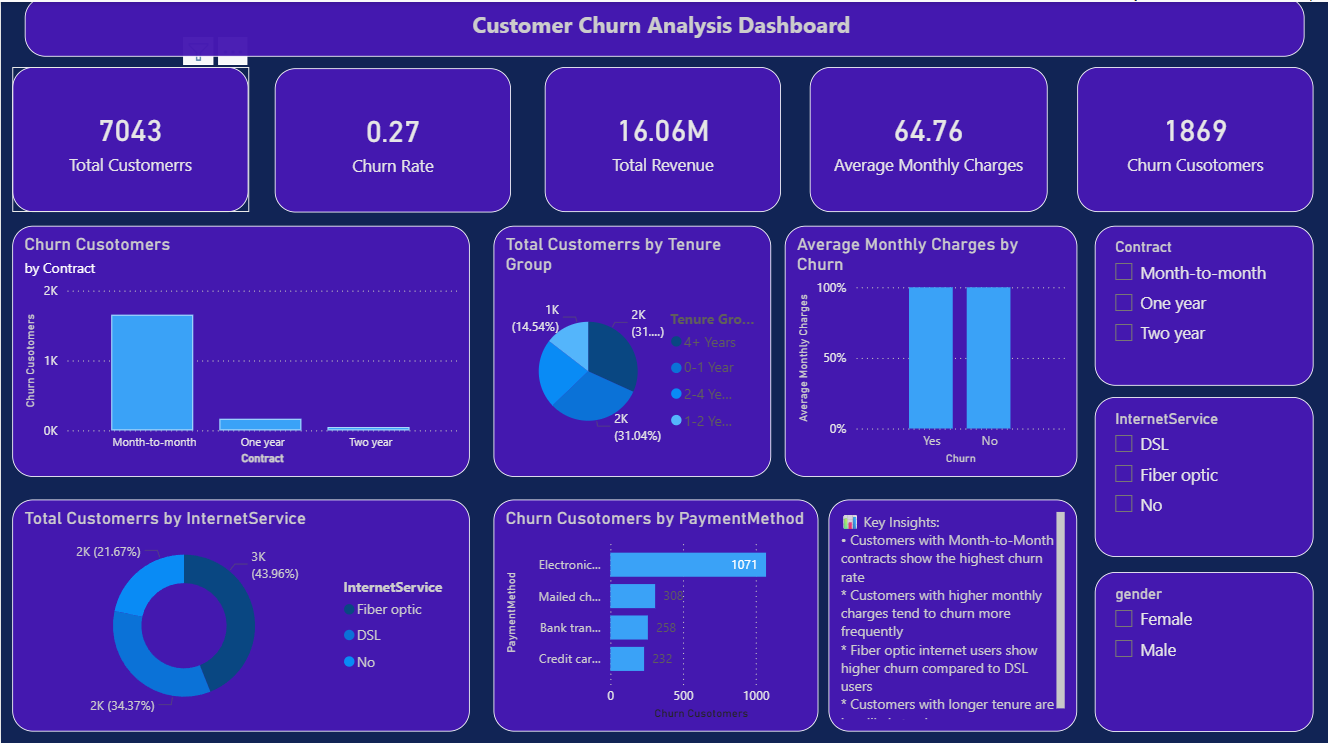

Layout of this report page (visuals, bound fields, positions):
{"tool":"powerbi","page":{"name":"Page 1","canvas":[1280,720],"ordinal":0},"visuals":[{"type":"card","fields":{"Values":["Sheet1.Total Customerrs"]},"box":[10.9,67.6,228,139.9],"z":0},{"type":"card","fields":{"Values":["Sheet1.Churn Cusotomers"]},"box":[1038.7,67.6,228,139.9],"z":1000},{"type":"card","fields":{"Values":["Sheet1.Total Revenue"]},"box":[524.8,67.6,228,139.9],"z":3000},{"type":"card","fields":{"Values":["Sheet1.Average Monthly Charges"]},"box":[780.6,67.6,229.2,139.9],"z":4000},{"type":"card","fields":{"Values":["Sheet1.Churn Rate"]},"box":[264.3,68.2,228.2,139.1],"z":4500},{"type":"clusteredColumnChart","fields":{"Category":["Sheet1.Contract"],"Y":["Sheet1.Churn Cusotomers"]},"box":[10.9,220.8,441.6,242.5],"z":5000},{"type":"donutChart","fields":{"Category":["Sheet1.InternetService"],"Y":["Sheet1.Total Customerrs"]},"box":[10.9,485,441.6,224.4],"z":6000},{"type":"clusteredBarChart","fields":{"Category":["Sheet1.PaymentMethod"],"Y":["Sheet1.Churn Cusotomers"]},"box":[475.3,485,313.7,224.4],"z":7000},{"type":"hundredPercentStackedColumnChart","fields":{"Category":["Sheet1.Churn"],"Y":["Sheet1.Average Monthly Charges"]},"box":[756.4,220.8,282.3,242.5],"z":8000},{"type":"textbox","box":[22.9,0,1235.4,57.9],"z":9000},{"type":"slicer","fields":{"Values":["Sheet1.Contract"]},"box":[1055.6,220.8,211.1,154.4],"z":10000},{"type":"slicer","fields":{"Values":["Sheet1.InternetService"]},"box":[1055.6,386.1,211.1,154.4],"z":11000},{"type":"pieChart","fields":{"Category":["Sheet1.Tenure Group"],"Y":["Sheet1.Total Customerrs"]},"box":[475.3,220.8,267.8,242.5],"z":12000},{"type":"slicer","fields":{"Values":["Sheet1.gender"]},"box":[1055.6,555,211.1,154.4],"z":13000},{"type":"textbox","box":[798.7,485,240.1,224.4],"z":13001}]}

Visuals, with their boxes in screenshot pixels (x1, y1, x2, y2), scaled from the page's 1280x720 canvas onto the 1328x744 screenshot:
card - Sheet1.Total Customerrs: [11, 70, 248, 214]
card - Sheet1.Churn Cusotomers: [1078, 70, 1314, 214]
card - Sheet1.Total Revenue: [544, 70, 781, 214]
card - Sheet1.Average Monthly Charges: [810, 70, 1048, 214]
card - Sheet1.Churn Rate: [274, 70, 511, 214]
clusteredColumnChart - Sheet1.Contract x Sheet1.Churn Cusotomers: [11, 228, 469, 479]
donutChart - Sheet1.InternetService x Sheet1.Total Customerrs: [11, 501, 469, 733]
clusteredBarChart - Sheet1.PaymentMethod x Sheet1.Churn Cusotomers: [493, 501, 819, 733]
hundredPercentStackedColumnChart - Sheet1.Churn x Sheet1.Average Monthly Charges: [785, 228, 1078, 479]
textbox: [24, 0, 1305, 60]
slicer - Sheet1.Contract: [1095, 228, 1314, 388]
slicer - Sheet1.InternetService: [1095, 399, 1314, 559]
pieChart - Sheet1.Tenure Group x Sheet1.Total Customerrs: [493, 228, 771, 479]
slicer - Sheet1.gender: [1095, 574, 1314, 733]
textbox: [829, 501, 1078, 733]
